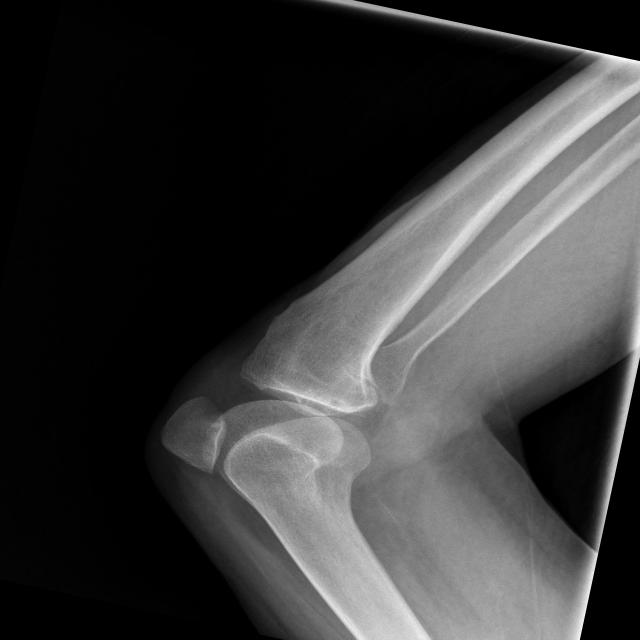Knee: (148, 321, 404, 530)
